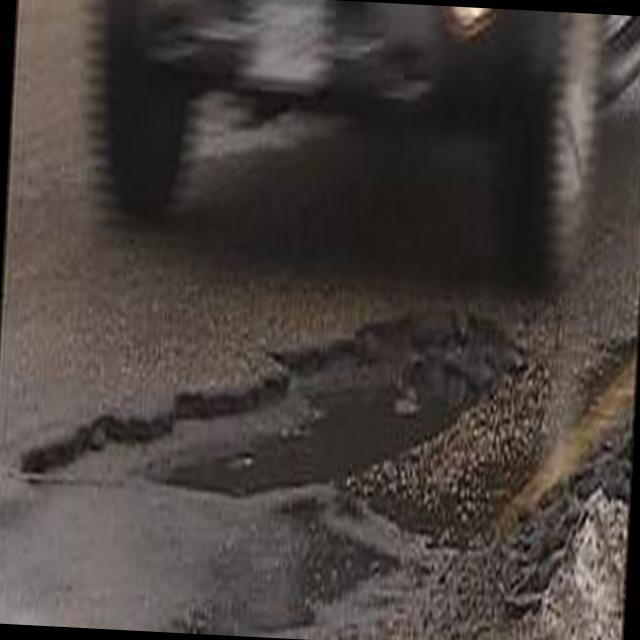Potholes: (81, 328, 514, 503)
